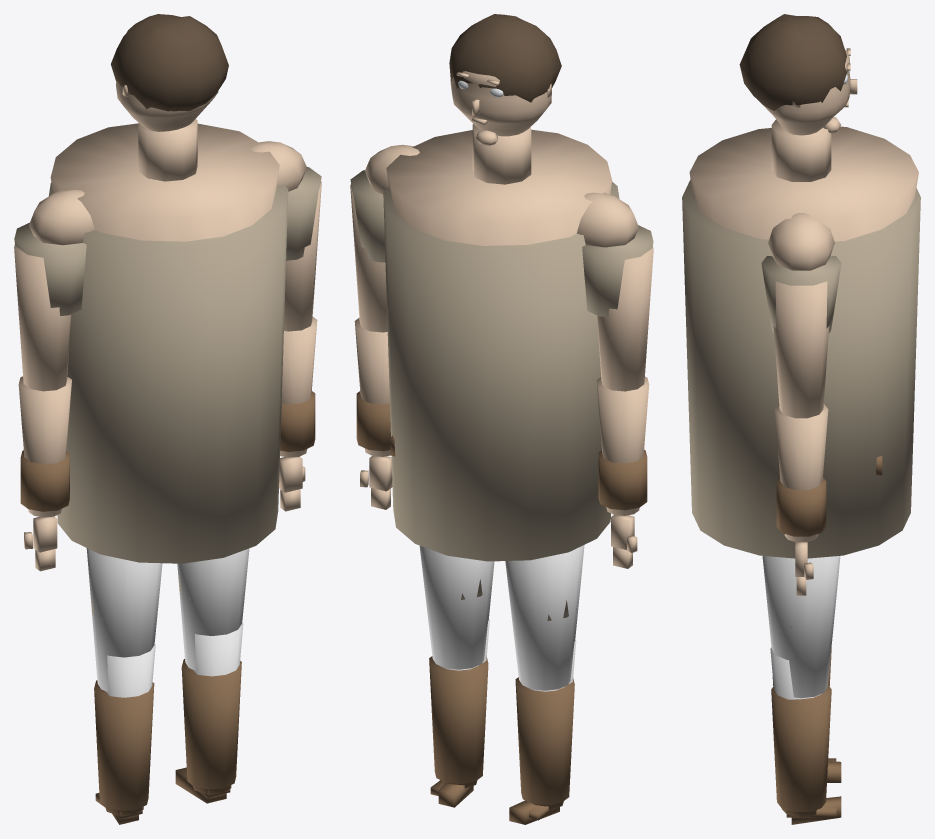
Rendered from male_warrior.glb.
The picture shows the model from 3 angles, left to right: view 1: azimuth 30°, elevation 25°; view 2: azimuth 150°, elevation 25°; view 3: azimuth 270°, elevation 25°; orthographic projection.
Parts seen in each view (by area): view 1: male_warrior; view 2: male_warrior; view 3: male_warrior.
Boxes of the visible parts, x1=… form: male_warrior: x1=14, y1=14, x2=321, y2=824; male_warrior: x1=350, y1=14, x2=653, y2=824; male_warrior: x1=682, y1=14, x2=920, y2=824.
Size of the model in its own units: 0.6803 by 1.72 by 0.48.
